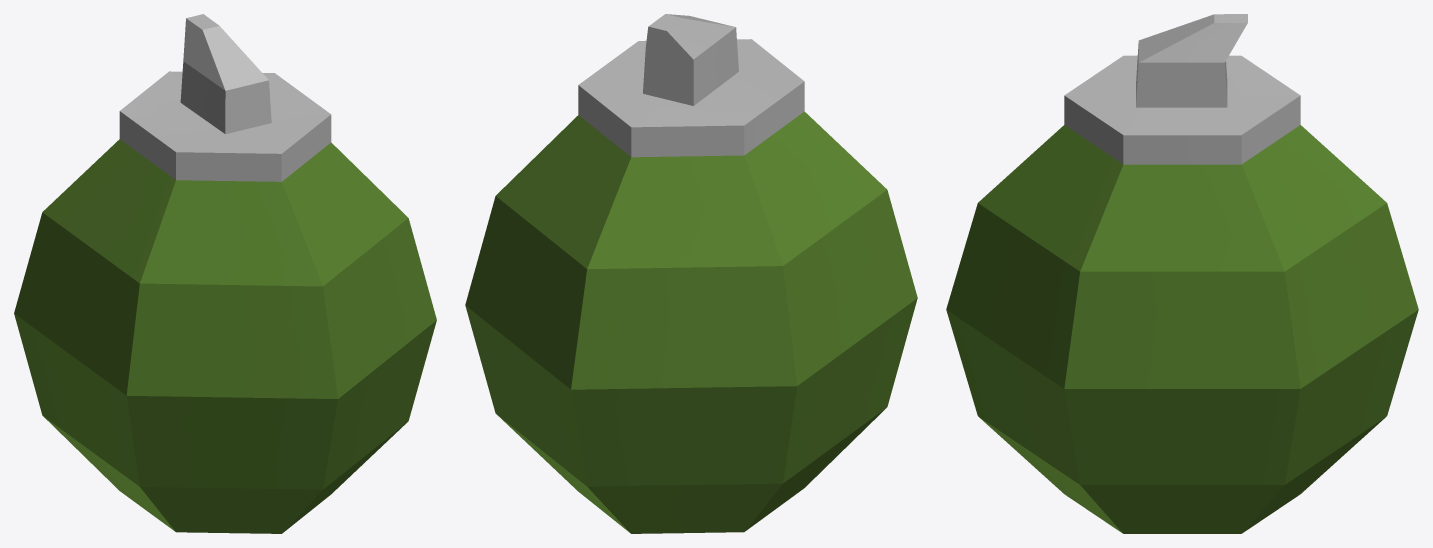
The model's file is Bomb.fbx.
3 renders of one model, left to right at view 1: azimuth 30°, elevation 25°; view 2: azimuth 150°, elevation 25°; view 3: azimuth 270°, elevation 25°, orthographic. The views are drawn at different scales.
Parts seen in each view (by area): view 1: Bomb; view 2: Bomb; view 3: Bomb.
Boxes of the visible parts, left/top/right/bottom form: Bomb: left=14, top=14, right=436, bottom=533; Bomb: left=465, top=14, right=917, bottom=533; Bomb: left=946, top=14, right=1418, bottom=533.
Bounding box in the file's own units: 17.69 × 26.2 × 22.24.
